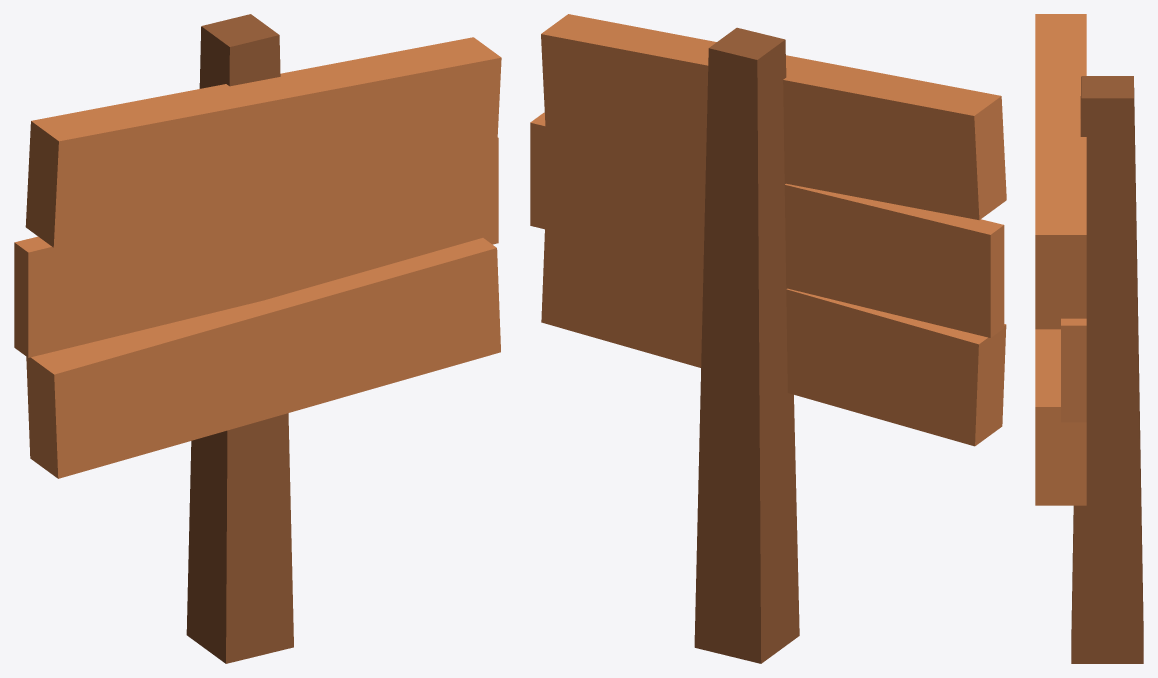
The model's file is sign.obj.
The picture shows the model from 3 angles, left to right: view 1: azimuth 30°, elevation 25°; view 2: azimuth 150°, elevation 25°; view 3: azimuth 270°, elevation 25°; orthographic projection. The views are drawn at different scales.
Parts seen in each view (by area): view 1: sign; view 2: sign; view 3: sign.
Part boxes in pixels (x1,y1,x2,y2): sign: (14, 14, 501, 663); sign: (530, 14, 1006, 663); sign: (1035, 14, 1143, 663).
Size of the model in its own units: 0.4835 by 0.6 by 0.105.
